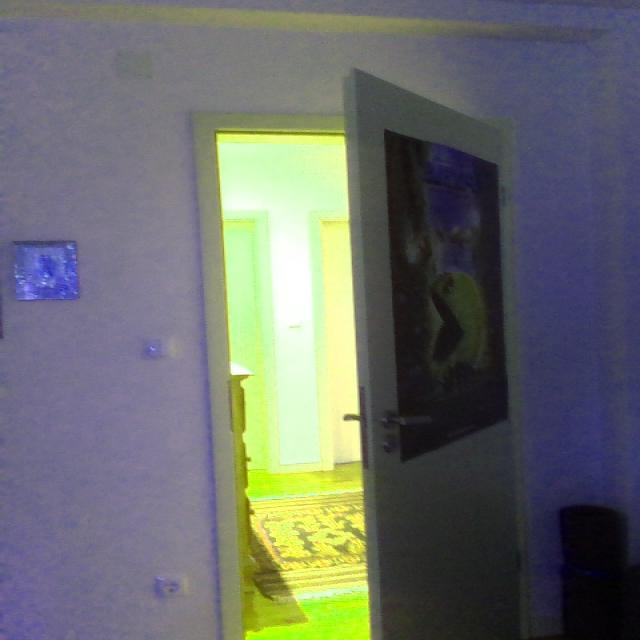door: (185, 51, 529, 640)
